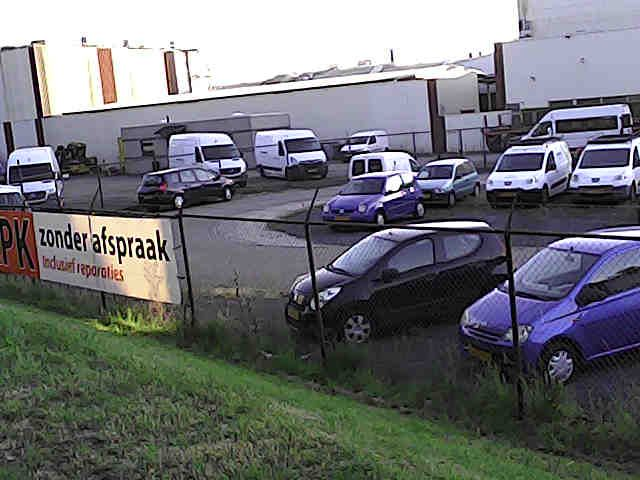suv: (285, 221, 505, 342), (514, 226, 639, 382), (322, 171, 424, 224), (137, 167, 234, 208), (416, 158, 480, 206), (348, 151, 418, 179), (338, 130, 388, 161), (0, 185, 27, 208)
whitevan: (486, 138, 571, 205), (569, 135, 639, 200), (169, 133, 247, 186), (254, 129, 327, 179), (6, 146, 63, 207)
